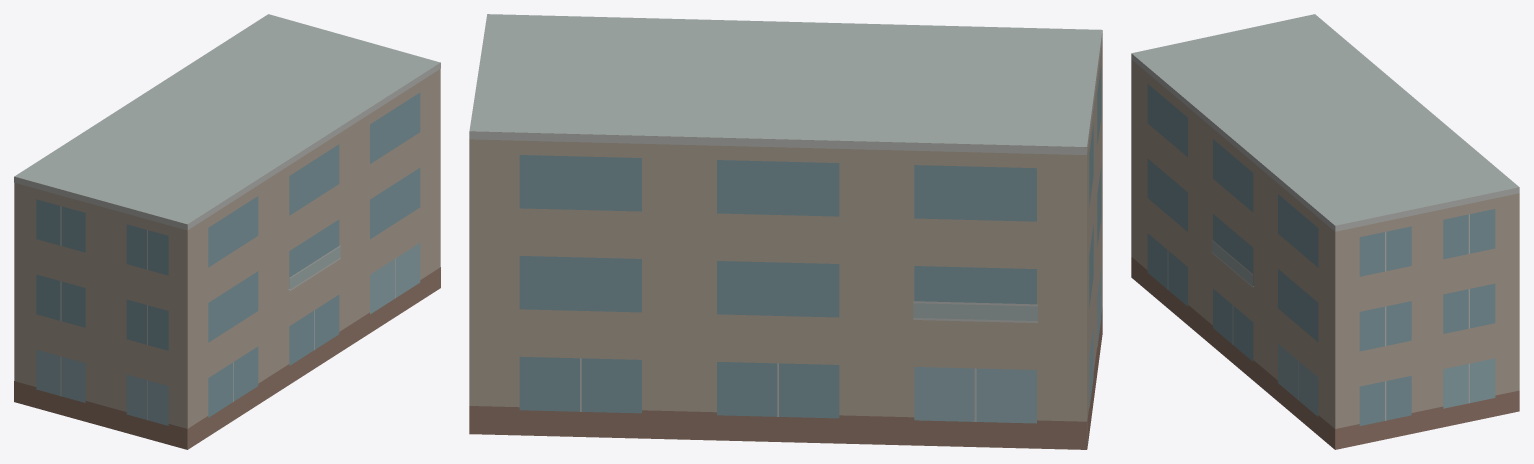
The model's file is survey-upis-32707516.glb.
The picture shows the model from 3 angles, left to right: view 1: azimuth 30°, elevation 25°; view 2: azimuth 150°, elevation 25°; view 3: azimuth 270°, elevation 25°; orthographic projection. The views are drawn at different scales.
Visible parts, largest first — view 1: survey-upis-32707516.tmp; view 2: survey-upis-32707516.tmp; view 3: survey-upis-32707516.tmp.
Boxes of the visible parts, x1,y1,x2,y2 form: survey-upis-32707516.tmp: [14, 14, 440, 449]; survey-upis-32707516.tmp: [469, 14, 1102, 449]; survey-upis-32707516.tmp: [1131, 14, 1519, 449].
Size of the model in its own units: 18.55 by 9.15 by 14.38.
